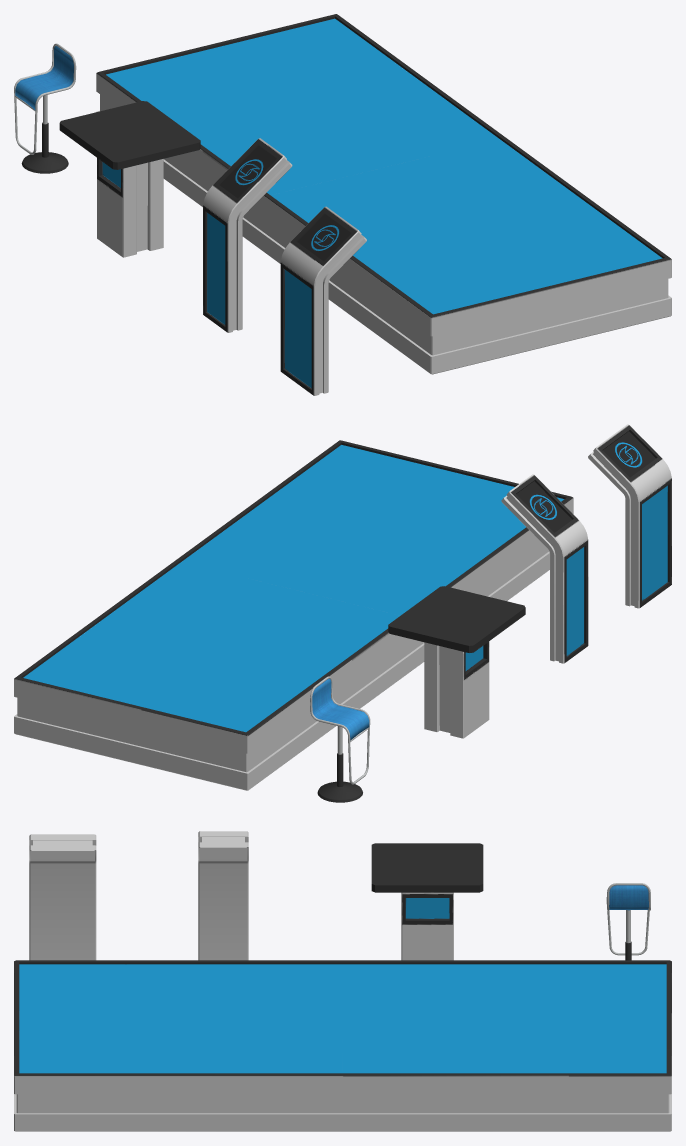
File: Stand_Sono_Arches_Addons.FBX
3 renders of one model, top to bottom at view 1: azimuth 30°, elevation 25°; view 2: azimuth 150°, elevation 25°; view 3: azimuth 270°, elevation 25°, orthographic. The views are drawn at different scales.
Visible parts, largest first — view 1: Stand_Sono_HologramPadLarge, Stand_Sono_TableSmall, Stand_Sono_InfoStandLarge, Stand_Sono_InfoStandSmall, Stand_Sono_ChairStool; view 2: Stand_Sono_HologramPadLarge, Stand_Sono_TableSmall, Stand_Sono_InfoStandLarge, Stand_Sono_InfoStandSmall, Stand_Sono_ChairStool; view 3: Stand_Sono_HologramPadLarge, Stand_Sono_TableSmall, Stand_Sono_InfoStandLarge, Stand_Sono_InfoStandSmall, Stand_Sono_ChairStool.
Boxes of the visible parts, x1=… form: Stand_Sono_HologramPadLarge: x1=96, y1=14, x2=671, y2=374; Stand_Sono_TableSmall: x1=59, y1=101, x2=200, y2=257; Stand_Sono_InfoStandLarge: x1=280, y1=206, x2=366, y2=395; Stand_Sono_InfoStandSmall: x1=203, y1=138, x2=292, y2=332; Stand_Sono_ChairStool: x1=14, y1=43, x2=76, y2=173; Stand_Sono_HologramPadLarge: x1=14, y1=440, x2=573, y2=790; Stand_Sono_TableSmall: x1=388, y1=586, x2=525, y2=738; Stand_Sono_InfoStandLarge: x1=588, y1=424, x2=671, y2=608; Stand_Sono_InfoStandSmall: x1=501, y1=474, x2=588, y2=663; Stand_Sono_ChairStool: x1=310, y1=676, x2=370, y2=802; Stand_Sono_HologramPadLarge: x1=14, y1=960, x2=671, y2=1131; Stand_Sono_TableSmall: x1=371, y1=843, x2=483, y2=960; Stand_Sono_InfoStandLarge: x1=29, y1=834, x2=96, y2=960; Stand_Sono_InfoStandSmall: x1=198, y1=831, x2=248, y2=960; Stand_Sono_ChairStool: x1=606, y1=883, x2=650, y2=960.
Bounding box in the file's own units: 376 × 157 × 583.
